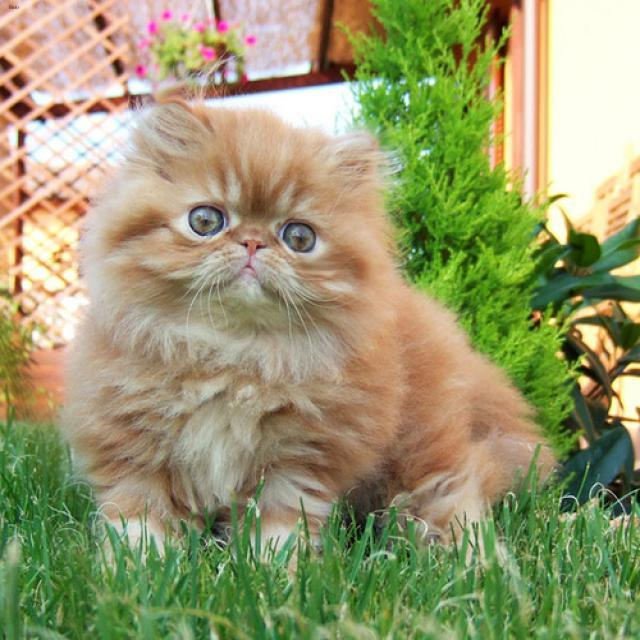Persian: (77, 83, 401, 364)
